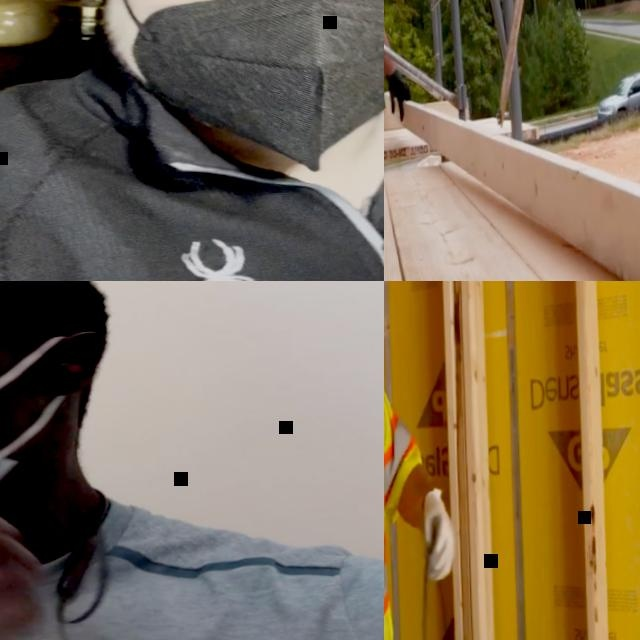Mask: (105, 0, 384, 179), (0, 334, 108, 533)
NO-Safety Vest: (0, 51, 384, 281), (0, 510, 384, 640)
Person: (0, 281, 384, 640), (0, 0, 384, 281), (384, 281, 461, 640)
vehicle: (593, 70, 640, 119)
